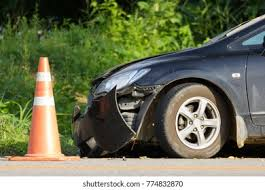car: (74, 14, 265, 158)
cone: (24, 53, 63, 157)
